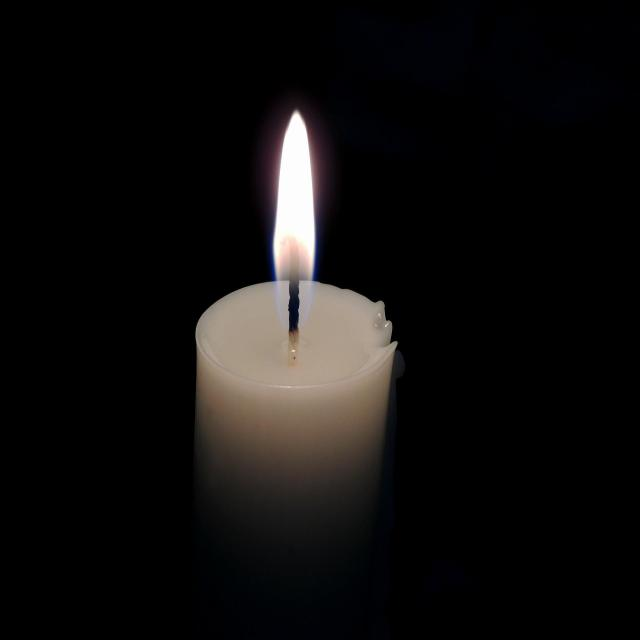Fire_Save: (193, 106, 399, 572), (271, 107, 316, 344)
